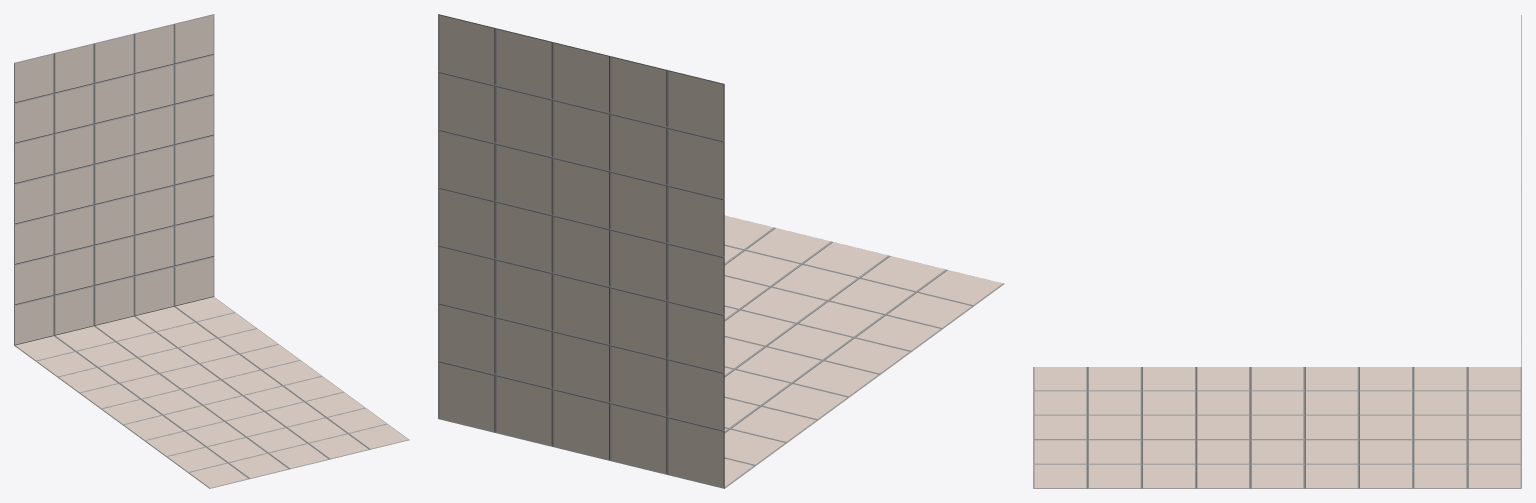
Rendered from Floortile_8.fbx.
The picture shows the model from 3 angles, left to right: view 1: azimuth 30°, elevation 25°; view 2: azimuth 150°, elevation 25°; view 3: azimuth 270°, elevation 25°; orthographic projection. The views are drawn at different scales.
Parts seen in each view (by area): view 1: Floortile_8; view 2: Floortile_8; view 3: Floortile_8.
Part boxes in pixels (x1,y1,x2,y2): Floortile_8: [14, 14, 409, 488]; Floortile_8: [438, 14, 1004, 488]; Floortile_8: [1033, 15, 1521, 488].
Size of the model in its own units: 289 by 489 by 390.
